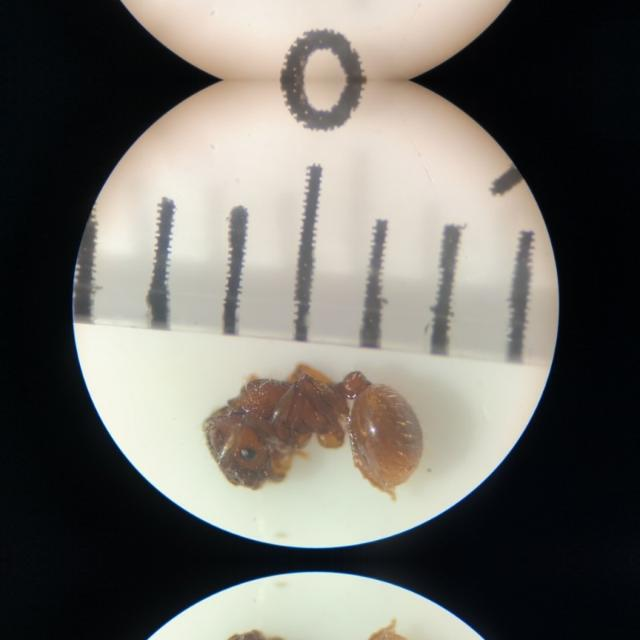Myrmica: (195, 360, 432, 490)
